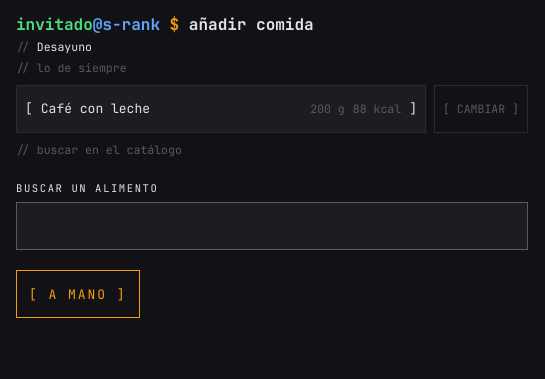
it: si el registro falla se dice con palabras y el chip vuelve a poderse pulsar
The width and height of the screenshot is (545, 379).
Click the button with aria-label "Café con leche, 200 g, 88 kilocalorías" at coordinates (95, 108), box [16,85,426,133]
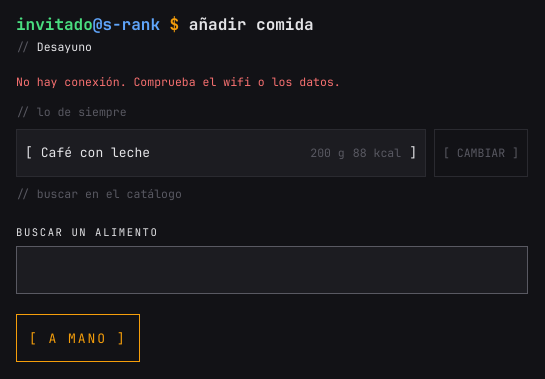
Expected: the button with aria-label "Café con leche, 200 g, 88 kilocalorías" is enabled, [16,129,426,177]
Expected: the text "No hay conexión. Comprueba el wifi o los datos." is shown, [16,74,341,89]
